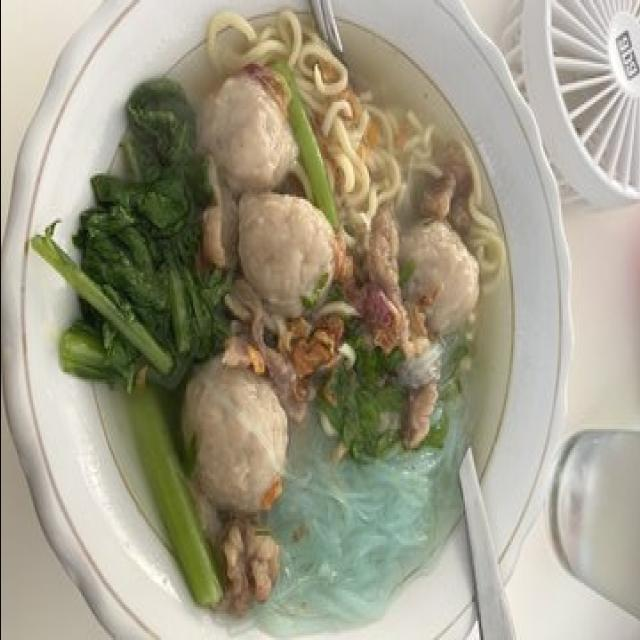bakso: (28, 7, 512, 633)
